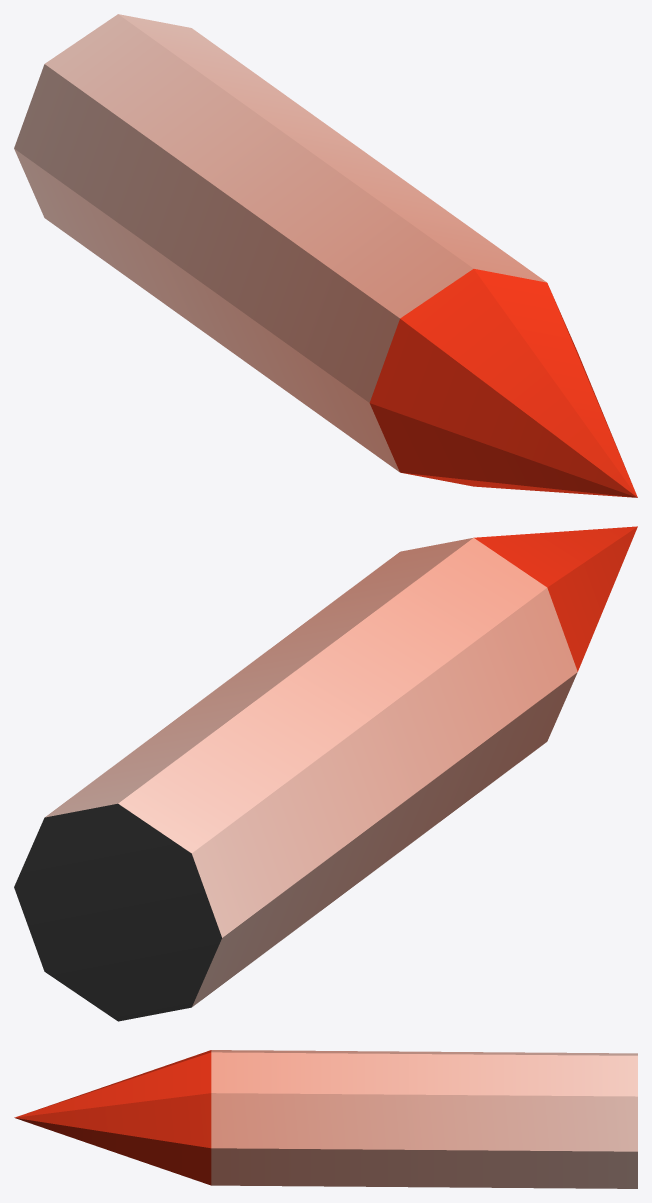
Rendered from Rudal.fbx.
The picture shows the model from 3 angles, top to bottom: view 1: azimuth 30°, elevation 25°; view 2: azimuth 150°, elevation 25°; view 3: azimuth 270°, elevation 25°; orthographic projection. The views are drawn at different scales.
Parts seen in each view (by area): view 1: Cylinder; view 2: Cylinder; view 3: Cylinder.
Boxes of the visible parts, bbox=[...] form: Cylinder: bbox=[14, 14, 637, 497]; Cylinder: bbox=[14, 526, 637, 1021]; Cylinder: bbox=[14, 1050, 637, 1188].
Bounding box in the file's own units: 26.89 × 27.59 × 116.
